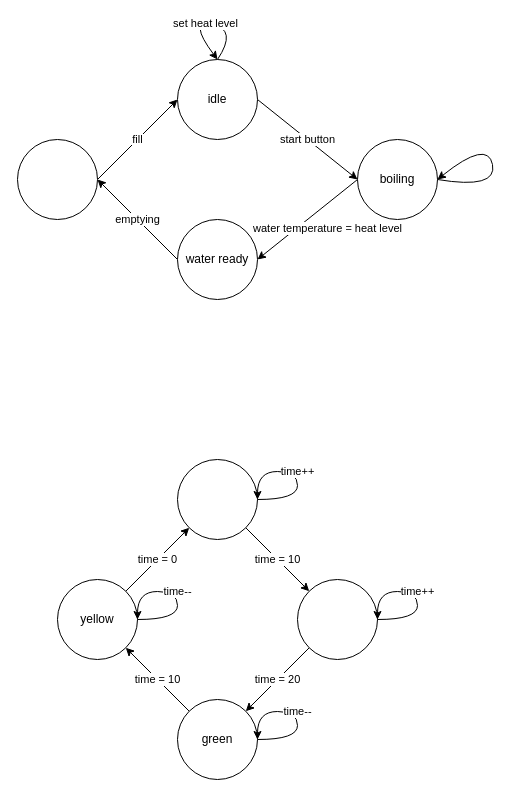
The diagram is 511 pixels wide and 798 high, and some of its shapes have lost their labels. The shapes that lost their labels are listed below. From the top down, each one's centre as x and y in pixels, then its label:
At pixel 57 179: "empty".
At pixel 217 499: "red".
At pixel 337 619: "red+yellow".
